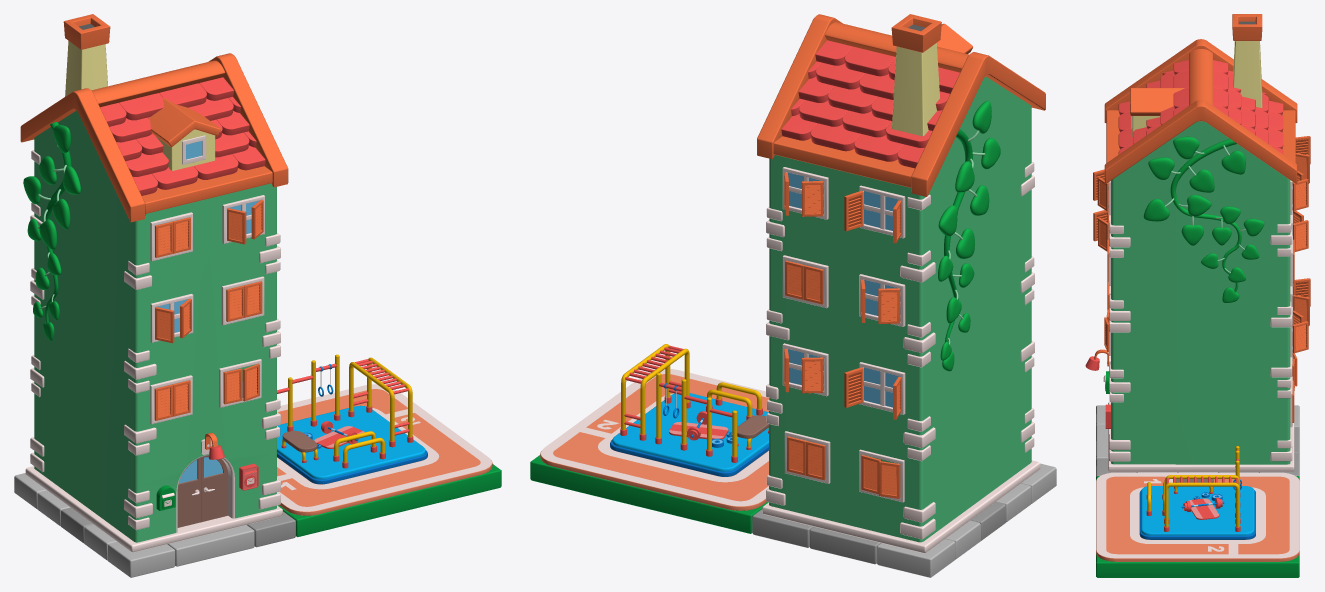
Rendered from City_Island_18.glb.
The picture shows the model from 3 angles, left to right: view 1: azimuth 30°, elevation 25°; view 2: azimuth 150°, elevation 25°; view 3: azimuth 270°, elevation 25°; orthographic projection. The views are drawn at different scales.
Parts seen in each view (by area): view 1: City_18_House_1, City_18_Stadium_1, City_18_Base_1, City_18_Sports_Area_1, City_18_Ivy_2, City_18_Base_2, City_18_Monkey_Bars_1, City_18_Horizontal_Bar_1, City_18_Bars_1, City_18_Sports_Bench_1; view 2: City_18_House_1, City_18_Stadium_1, City_18_Base_1, City_18_Sports_Area_1, City_18_Ivy_2, City_18_Base_2, City_18_Monkey_Bars_1, City_18_Horizontal_Bar_1, City_18_Bars_1; view 3: City_18_House_1, City_18_Stadium_1, City_18_Ivy_1, City_18_Sports_Area_1, City_18_Base_2, City_18_Base_1, City_18_Monkey_Bars_1, City_18_Yoga_Mat_1.
Part boxes in pixels (x1,y1,x2,y2): City_18_House_1: (20,14,288,552); City_18_Stadium_1: (277,384,492,515); City_18_Base_1: (14,473,295,577); City_18_Sports_Area_1: (277,405,427,484); City_18_Ivy_2: (23,122,80,340); City_18_Base_2: (278,464,501,537); City_18_Monkey_Bars_1: (348,357,413,447); City_18_Horizontal_Bar_1: (277,354,340,431); City_18_Bars_1: (333,431,385,468); City_18_Sports_Bench_1: (281,430,318,462); City_18_House_1: (757,14,1045,553); City_18_Stadium_1: (540,369,769,510); City_18_Base_1: (752,463,1056,577); City_18_Sports_Area_1: (610,393,768,476); City_18_Ivy_2: (938,100,1000,371); City_18_Base_2: (530,455,768,533); City_18_Monkey_Bars_1: (620,344,690,440); City_18_Horizontal_Bar_1: (655,372,737,462); City_18_Bars_1: (706,382,762,419); City_18_House_1: (1093,14,1310,471); City_18_Stadium_1: (1096,472,1299,561); City_18_Ivy_1: (1143,136,1264,302); City_18_Sports_Area_1: (1139,486,1255,539); City_18_Base_2: (1096,476,1299,577); City_18_Base_1: (1096,405,1299,476); City_18_Monkey_Bars_1: (1164,475,1240,531); City_18_Yoga_Mat_1: (1188,498,1219,519).
Size of the model in its own units: 13.47 by 16.52 by 8.04.
20 materials, 20 textured.
